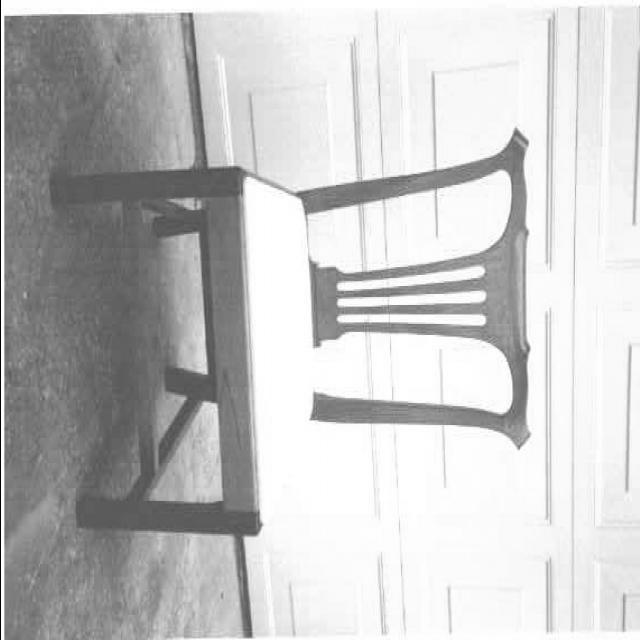chair: (50, 128, 535, 542)
